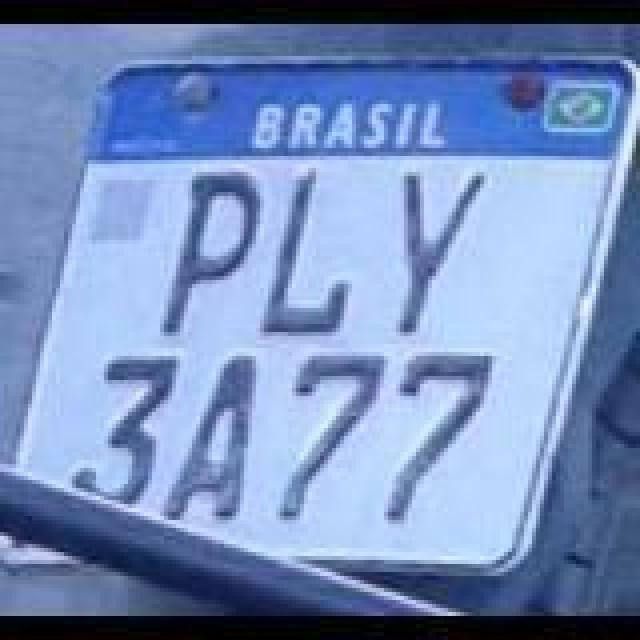3: (68, 350, 180, 514)
7: (276, 348, 396, 524), (374, 352, 490, 528)
A: (158, 346, 258, 518)
L: (254, 166, 354, 346)
P: (154, 168, 262, 336)
Y: (386, 166, 494, 330)
